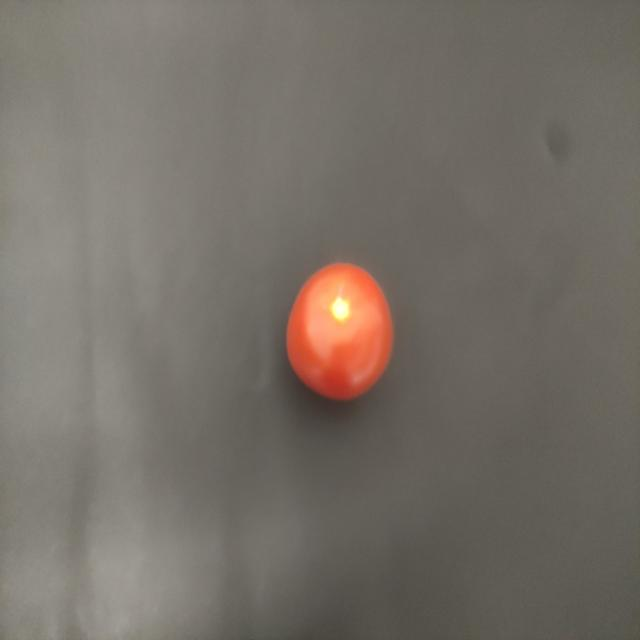kirmizi: (274, 253, 414, 417)
